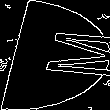M_W: (6, 28, 104, 82)
